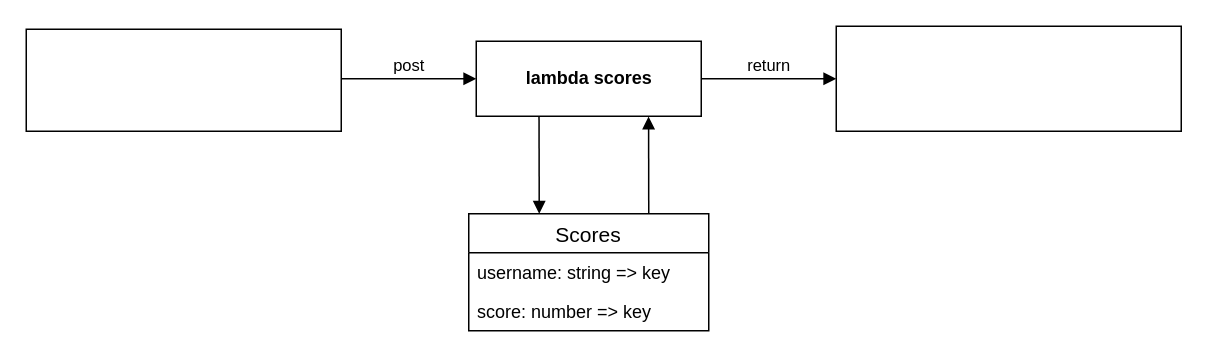
Some shapes in this 1208 by 362 pixel diagram are drawn without their labels. Each missing label, with the centre of its shape:
{ "statusCode": 200 "body": "<array_of_first_ten_scores>" }: (x=1008, y=78)
{ "username": "<username>" "score": "<score>" }: (x=183, y=79)
